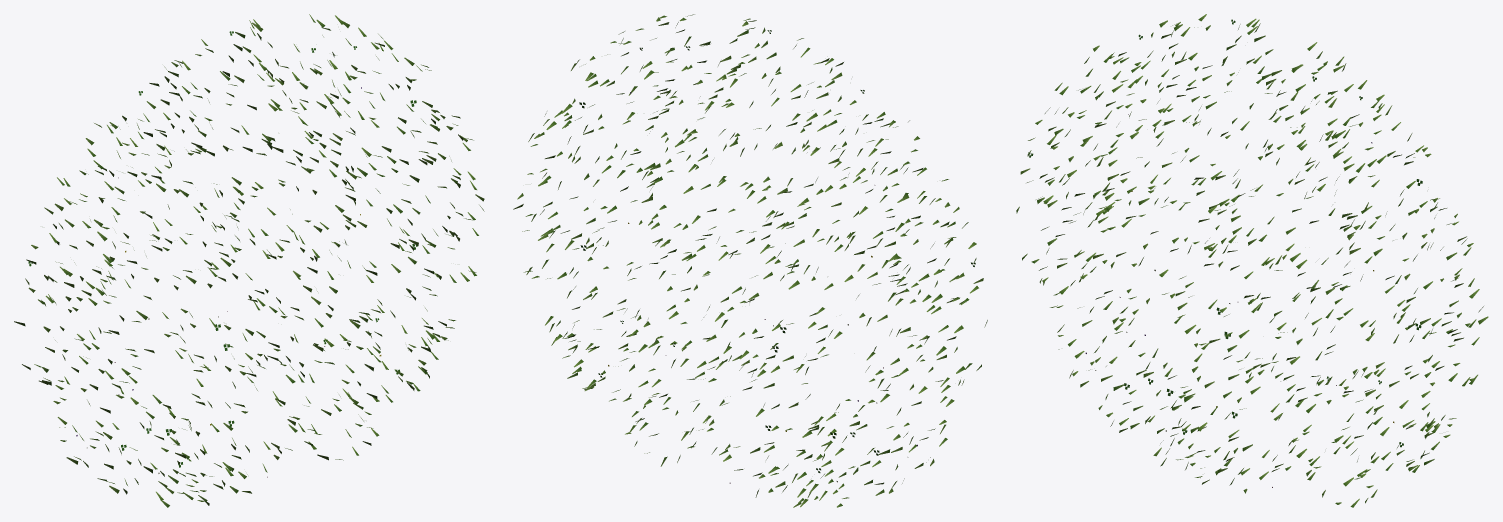
Rendered from Grass_Tile_NorthMeadow.glb.
The picture shows the model from 3 angles, left to right: view 1: azimuth 30°, elevation 25°; view 2: azimuth 150°, elevation 25°; view 3: azimuth 330°, elevation 25°; orthographic projection.
Parts seen in each view (by area): view 1: Grass_Tile_NorthMeadow; view 2: Grass_Tile_NorthMeadow; view 3: Grass_Tile_NorthMeadow.
Part boxes in pixels (x1,y1,x2,y2): Grass_Tile_NorthMeadow: [14, 14, 484, 507]; Grass_Tile_NorthMeadow: [513, 14, 987, 507]; Grass_Tile_NorthMeadow: [1016, 14, 1488, 507].
Size of the model in its own units: 1.92 by 1.86 by 0.0715.
